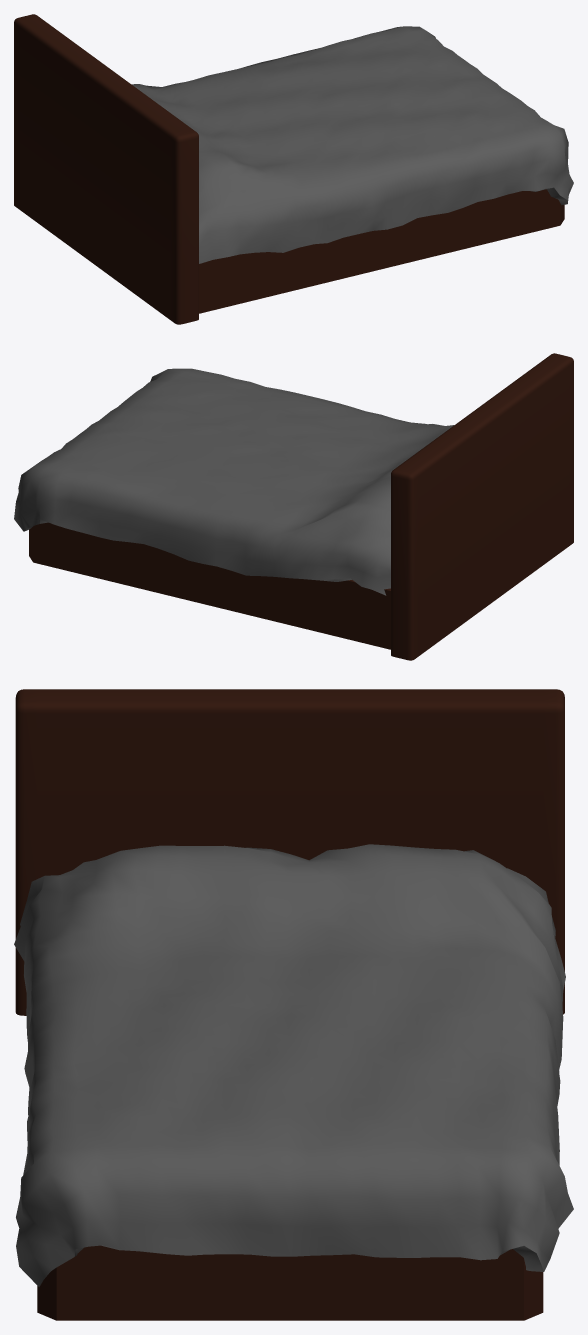
Rendered from Lit.fbx.
3 renders of one model, top to bottom at view 1: azimuth 30°, elevation 25°; view 2: azimuth 150°, elevation 25°; view 3: azimuth 270°, elevation 25°, orthographic. The views are drawn at different scales.
Parts seen in each view (by area): view 1: Lit; view 2: Lit; view 3: Lit.
Part boxes in pixels (x1=…): Lit: x1=14, y1=14, x2=573, y2=324; Lit: x1=14, y1=353, x2=573, y2=660; Lit: x1=14, y1=689, x2=573, y2=1320.
Bounding box in the file's own units: 316 × 137 × 224.
